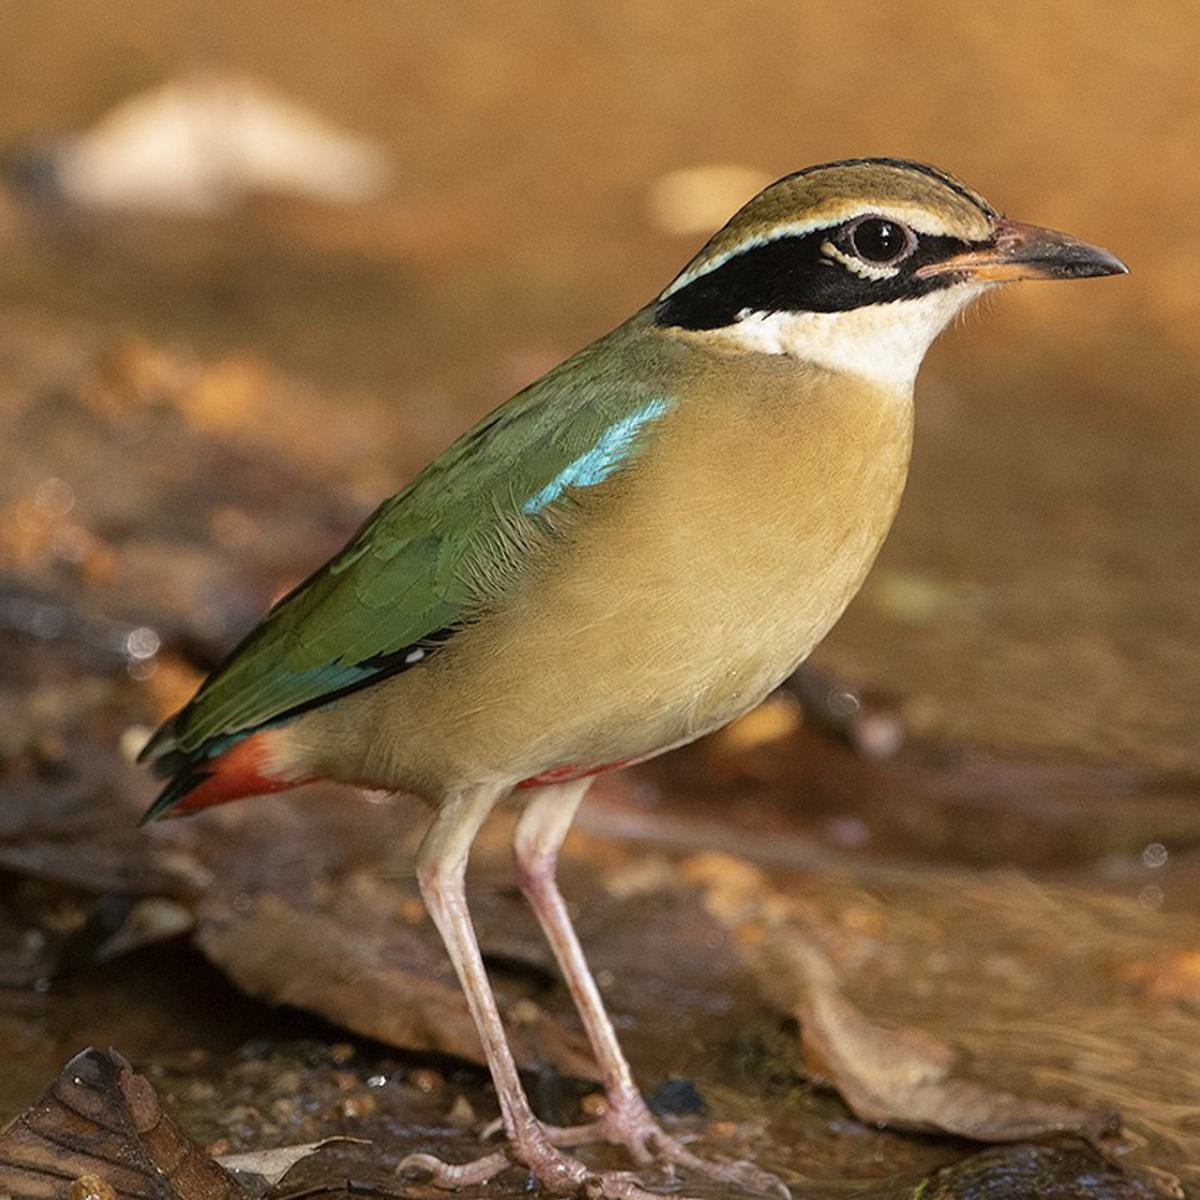pitta: (156, 151, 1148, 1089)
